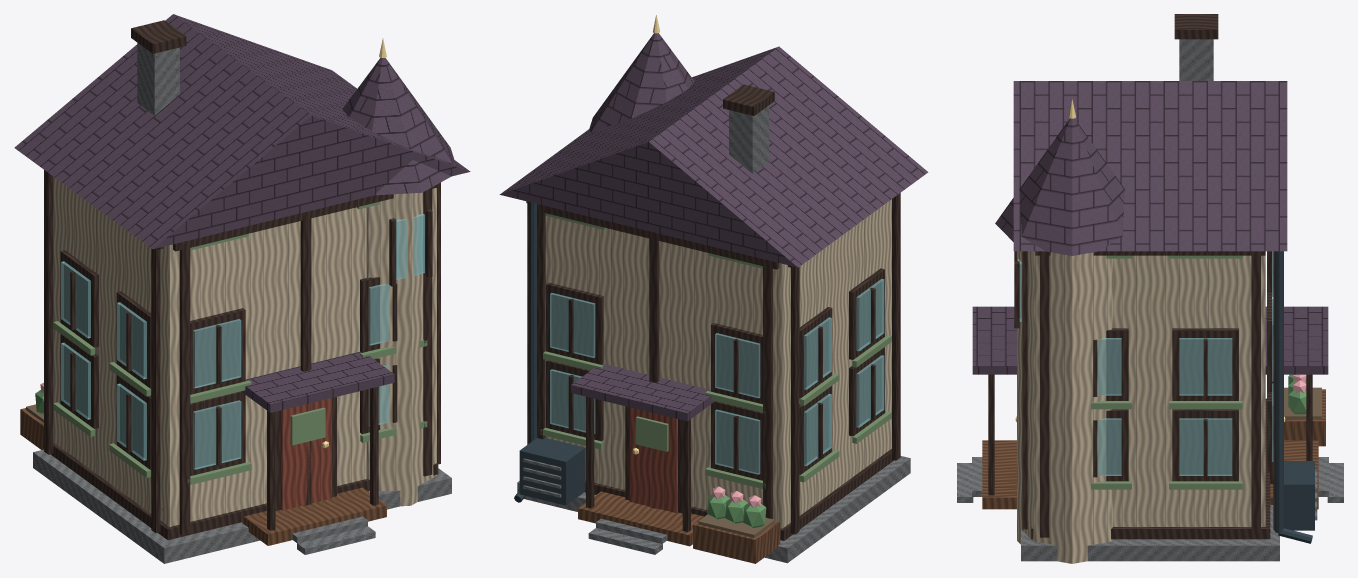
File: house_tudor_lv3_tower.glb
3 renders of one model, left to right at view 1: azimuth 30°, elevation 25°; view 2: azimuth 150°, elevation 25°; view 3: azimuth 270°, elevation 25°, orthographic. The views are drawn at different scales.
Visible parts, largest first — view 1: gable_roof, walls, tower, tower_roof, foundation, front_porch_canopy, front_door, front_window_frame.002, front_deck, front_window_frame, front_timber, floor_trim (+30 smaller); view 2: gable_roof, walls, tower_roof, back_porch_canopy, foundation, back_window_frame.003, back_door, back_ac_unit, back_window_frame.002, back_window_frame, back_deck, back_window_frame.001 (+31 smaller); view 3: gable_roof, walls, tower, tower_roof, foundation, right_window_frame.003, right_window_frame.001, back_porch_canopy, front_porch_canopy, right_window_glass.003, right_window_glass.001, right_timber.001 (+25 smaller).
Boxes of the visible parts, x1,y1,x2,y2 form: gable_roof: [14, 14, 470, 249]; walls: [53, 177, 366, 526]; tower: [366, 188, 436, 506]; tower_roof: [342, 57, 454, 195]; foundation: [33, 449, 451, 563]; front_porch_canopy: [241, 351, 394, 412]; front_door: [281, 398, 331, 510]; front_window_frame.002: [190, 308, 245, 394]; front_deck: [242, 487, 386, 545]; front_window_frame: [190, 391, 245, 475]; front_timber: [179, 240, 190, 535]; floor_trim: [51, 442, 438, 540]; gable_roof: [499, 46, 928, 267]; walls: [545, 199, 891, 528]; tower_roof: [589, 33, 694, 132]; back_porch_canopy: [571, 363, 714, 421]; foundation: [517, 456, 910, 563]; back_window_frame.003: [546, 282, 603, 364]; back_door: [630, 407, 677, 512]; back_ac_unit: [519, 438, 585, 505]; back_window_frame.002: [711, 323, 762, 404]; back_window_frame: [711, 401, 762, 480]; back_deck: [578, 491, 703, 546]; back_window_frame.001: [546, 360, 603, 441]; gable_roof: [1013, 81, 1287, 251]; walls: [1113, 255, 1265, 526]; tower: [1017, 251, 1113, 563]; tower_roof: [995, 118, 1124, 255]; foundation: [1021, 505, 1279, 561]; right_window_frame.003: [1172, 328, 1238, 400]; right_window_frame.001: [1172, 409, 1238, 481]; back_porch_canopy: [1265, 306, 1328, 374]; front_porch_canopy: [972, 306, 1016, 374]; right_window_glass.003: [1179, 338, 1232, 395]; right_window_glass.001: [1179, 418, 1232, 475]; right_timber.001: [1251, 251, 1260, 537].
Bounding box in the file's own units: 3.25 × 4.24 × 3.36.
13 materials, 7 textured.
